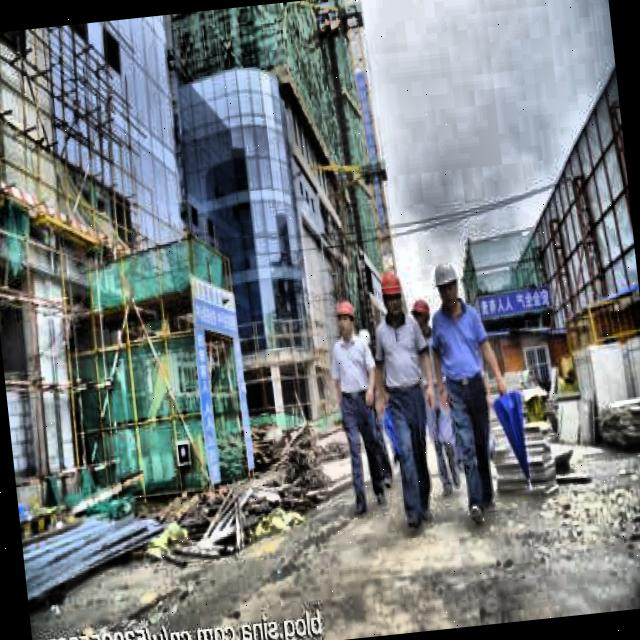helmet: (375, 265, 407, 327), (432, 258, 462, 312), (333, 298, 359, 342), (410, 296, 434, 334)
